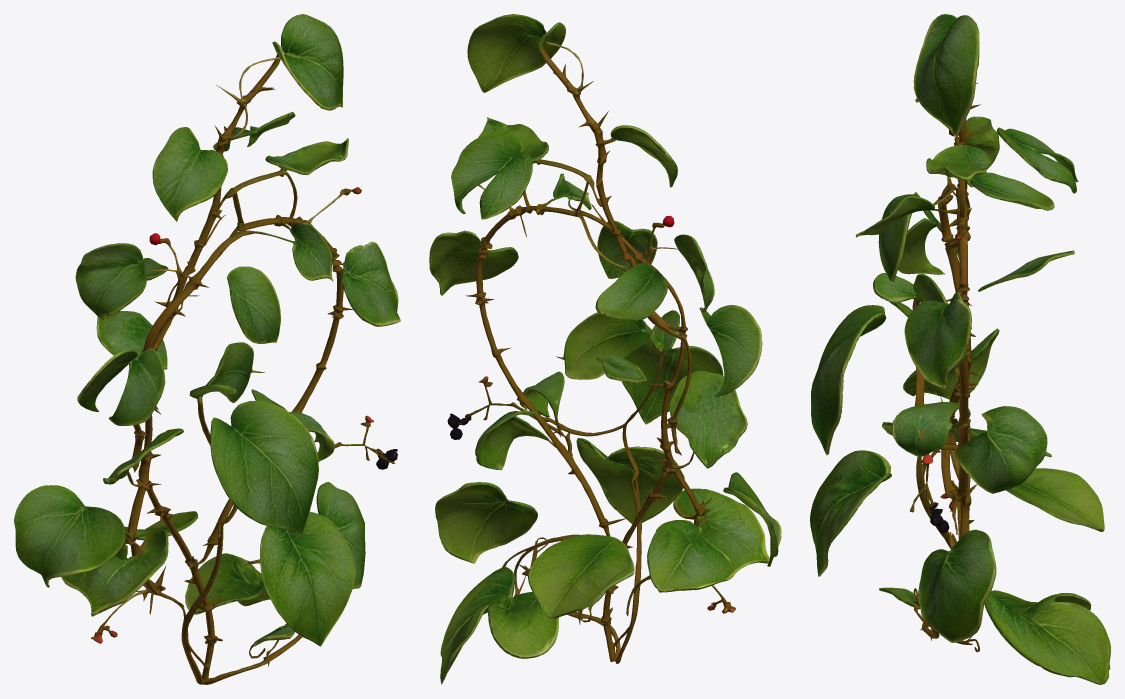
Rendered from Greenbrier.glb.
The picture shows the model from 3 angles, left to right: view 1: azimuth 30°, elevation 25°; view 2: azimuth 150°, elevation 25°; view 3: azimuth 270°, elevation 25°; orthographic projection. The views are drawn at different scales.
Visible parts, largest first — view 1: Mesh_0; view 2: Mesh_0; view 3: Mesh_0.
Boxes of the visible parts, bbox=[...] form: Mesh_0: bbox=[14, 14, 400, 684]; Mesh_0: bbox=[429, 14, 781, 684]; Mesh_0: bbox=[810, 14, 1110, 684].
Bounding box in the file's own units: 0.6001 × 1 × 0.413.
1 material, 1 textured.
